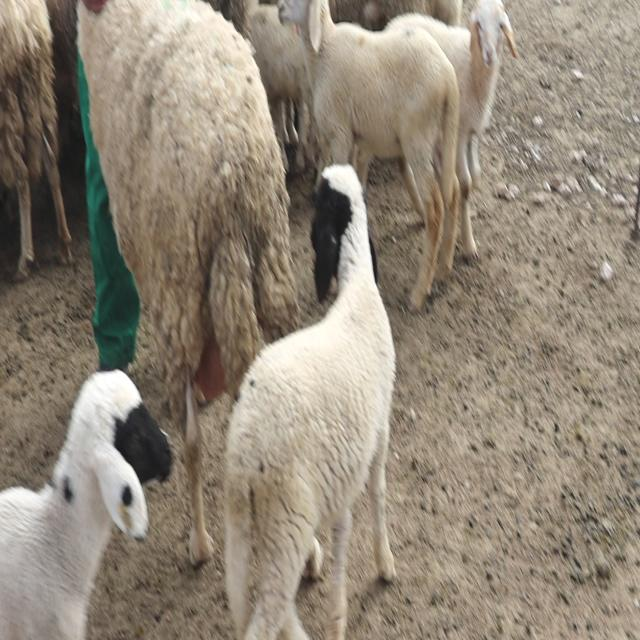Score_2: (78, 0, 299, 562)
